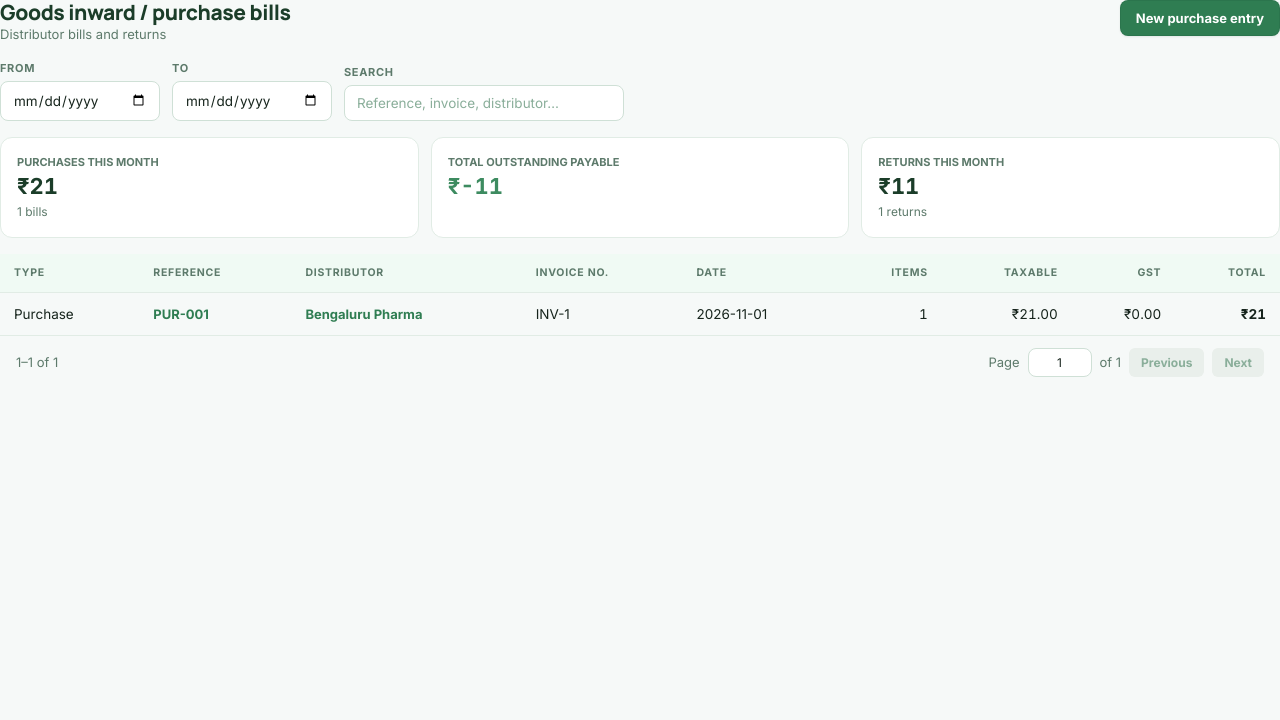
Scenario: PurchasesPage › shows the month cards and the entry actions
Expected: the text "Purchases this month" is shown, [17, 155, 159, 169]
Expected: the text "Total outstanding payable" is shown, [448, 155, 620, 169]
Click the button "New purchase entry". click: click(1200, 18)
box: [1120, 0, 1279, 36]
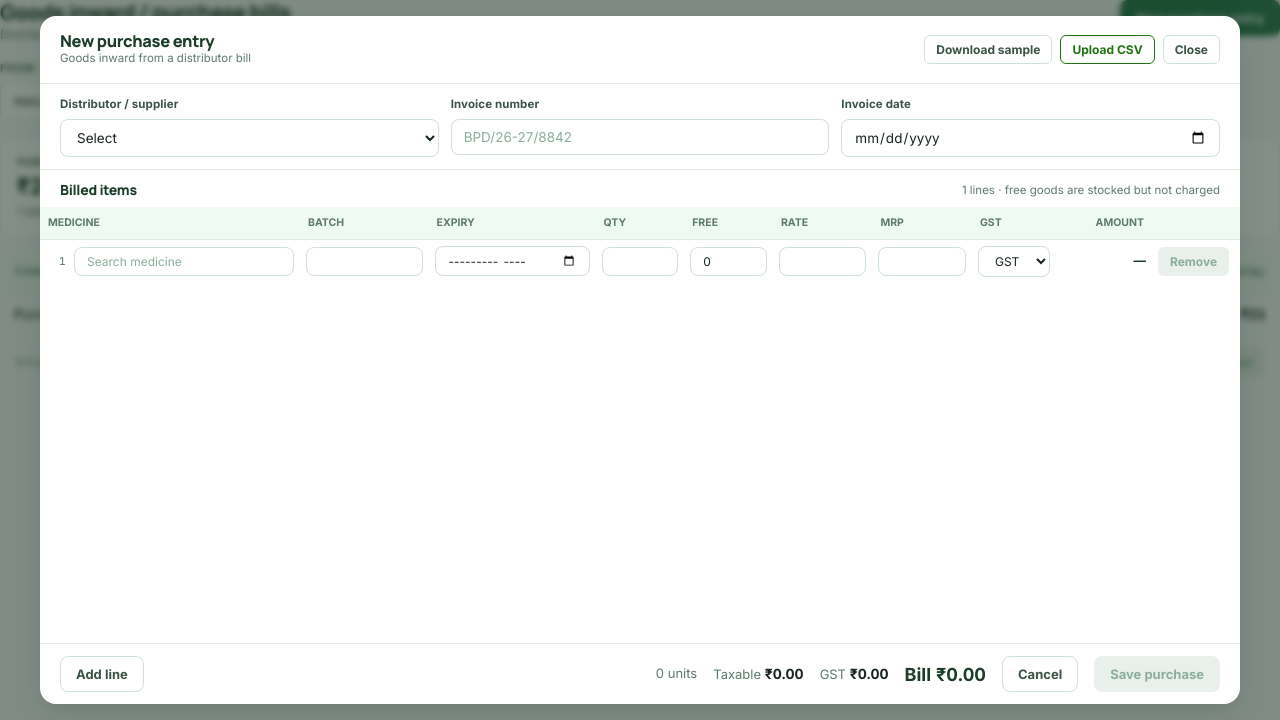
Result: the button "Upload CSV" is shown at [1060, 35, 1155, 64]
Result: the button "Download sample" is shown at [924, 35, 1052, 64]
